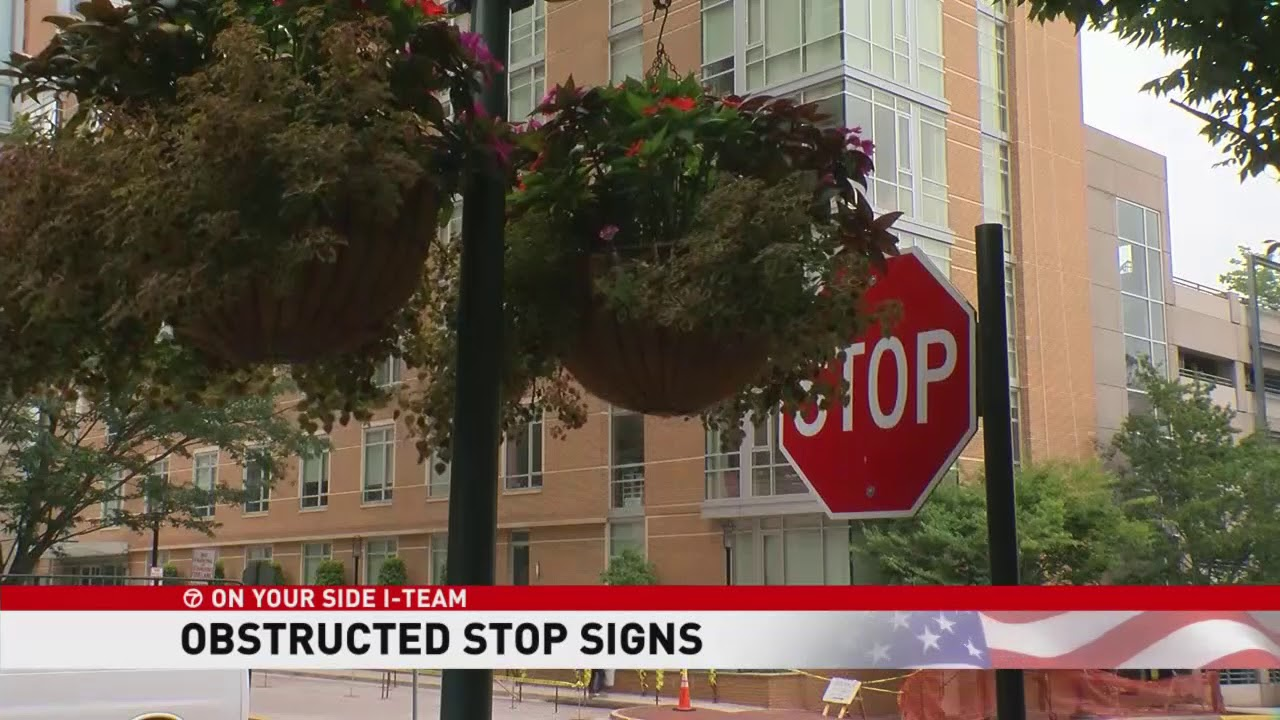stop: (779, 244, 975, 521)
